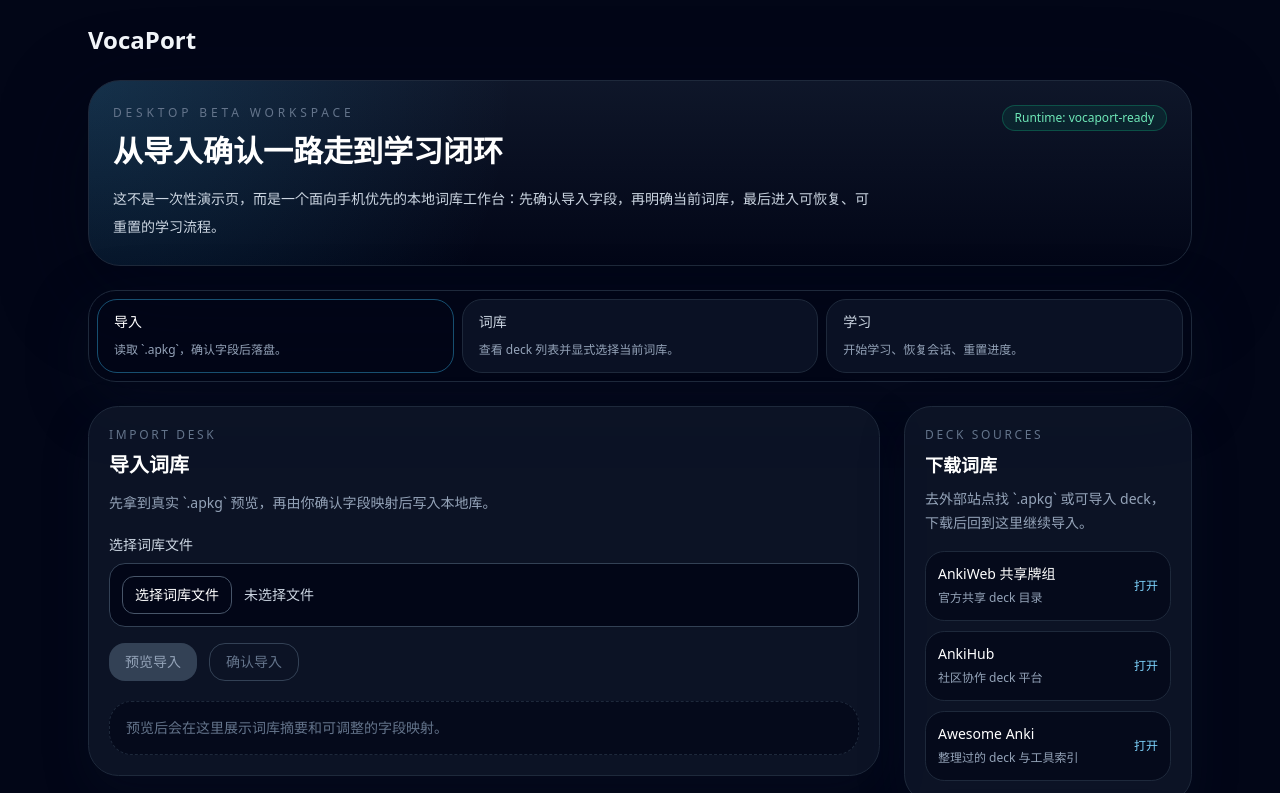
Test: desktop app usability › clears the consumed preview after a successful import so the same preview cannot be committed twice
Click the button "选择词库文件": (177, 595) [122,576,232,614]
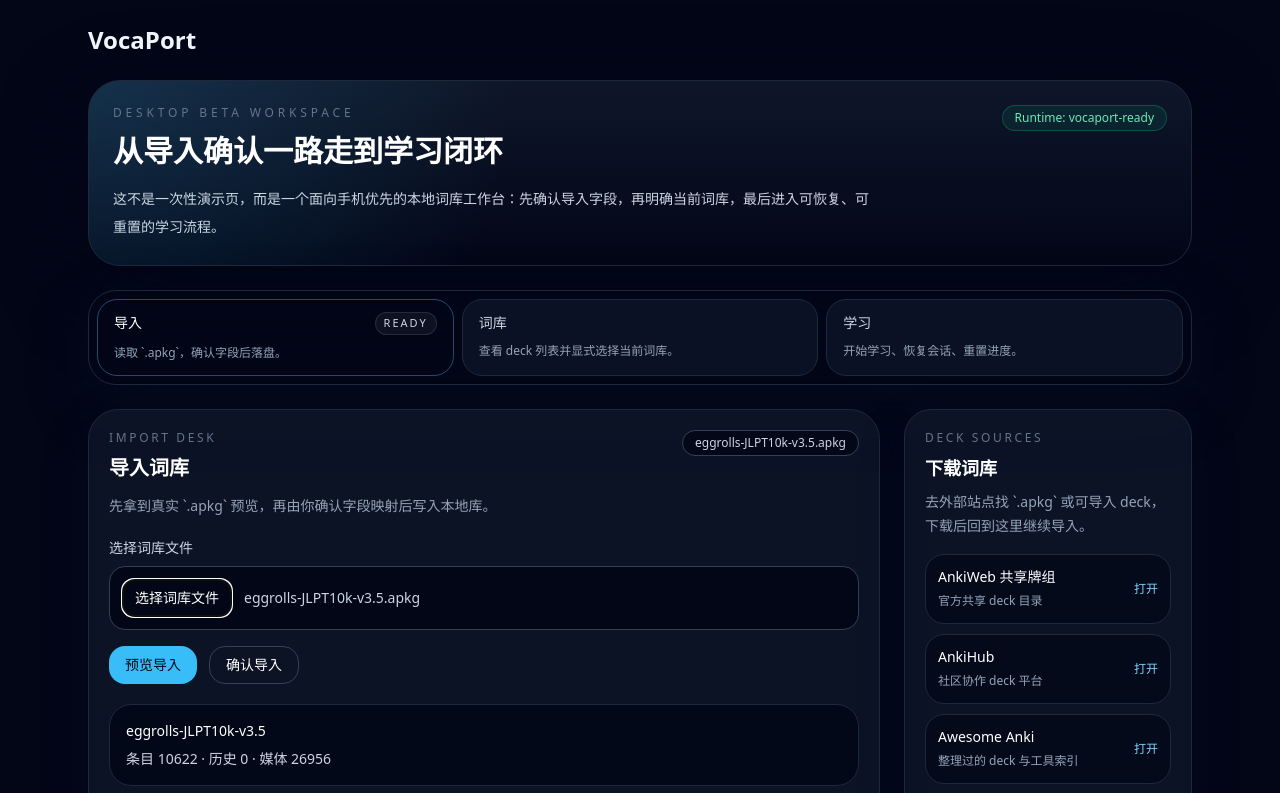
Click the button "确认导入": (254, 664) [209,646,299,684]
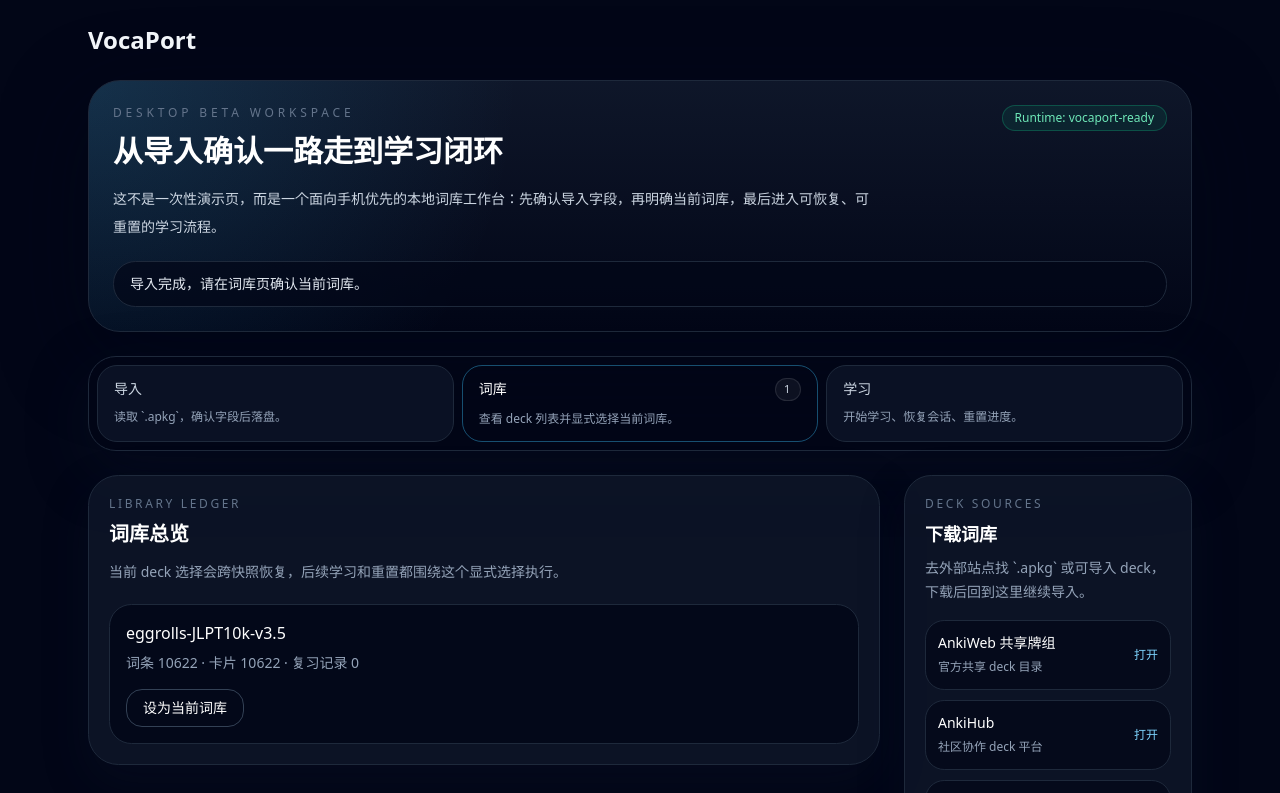
Result: the text "导入完成，请在词库页确认当前词库。" is shown at [113,261,1167,307]
Click the tab "导入 读取 `.apkg`，确认字段后落盘。": (200, 417) [97,365,454,442]
(page scrolled)
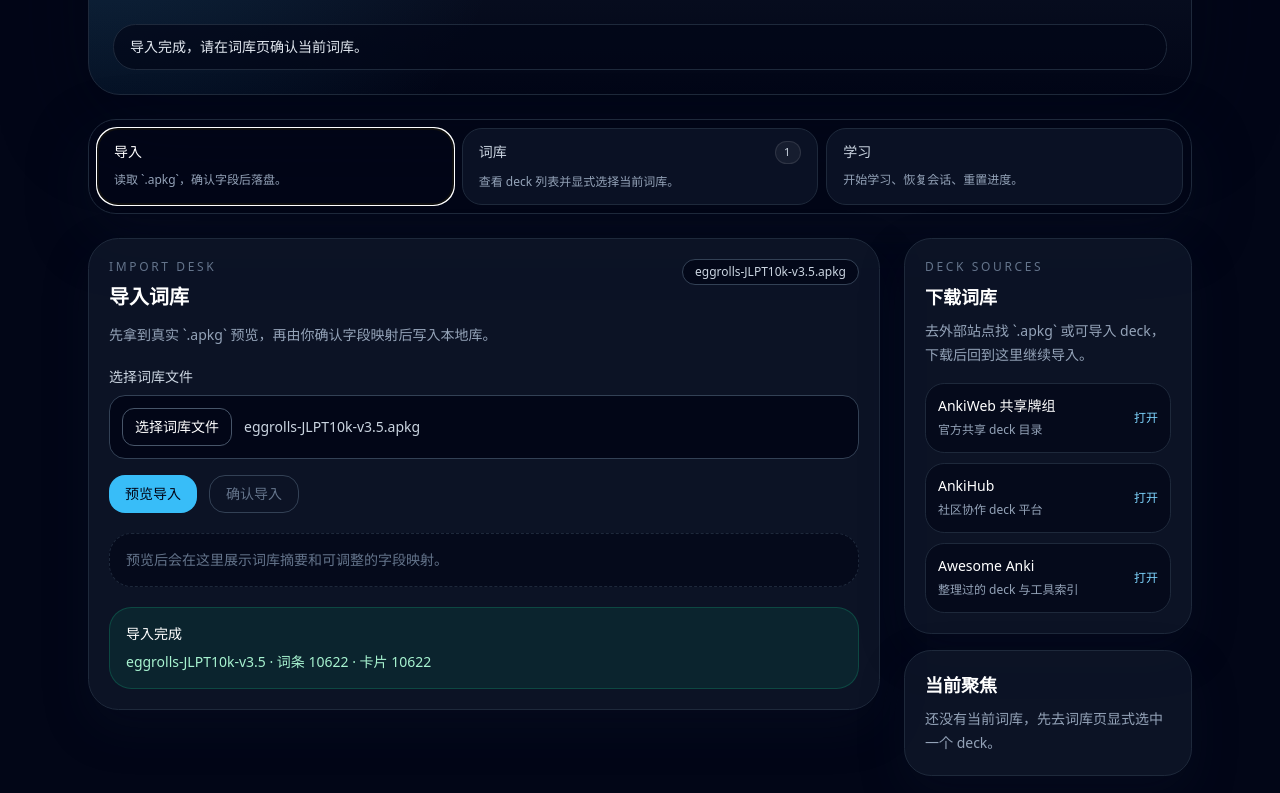
Expected: the text "ready" is not shown
Result: the button "确认导入" is disabled at [209,474,299,512]
Result: the text "预览后会在这里展示词库摘要和可调整的字段映射。" is shown at [109,532,859,586]
